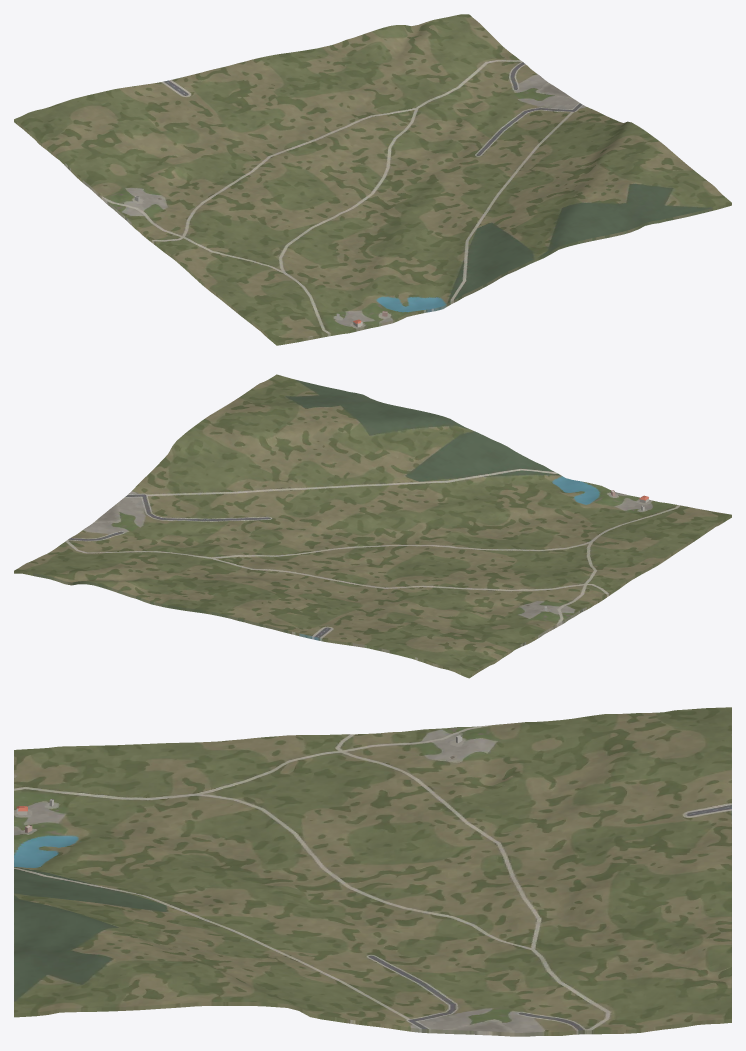
3 views of the same model, one above another, from view 1: azimuth 30°, elevation 25°; view 2: azimuth 150°, elevation 25°; view 3: azimuth 270°, elevation 25° (orthographic). The views are drawn at different scales.
Parts seen in each view (by area): view 1: terrain; view 2: terrain; view 3: terrain.
Part boxes in pixels (x1,y1,x2,y2): terrain: (14,14,731,345); terrain: (14,374,731,678); terrain: (14,707,731,1036).
Bounding box in the file's own units: 500 × 50.36 × 500.
Materials: 2 (1 with a texture image).
